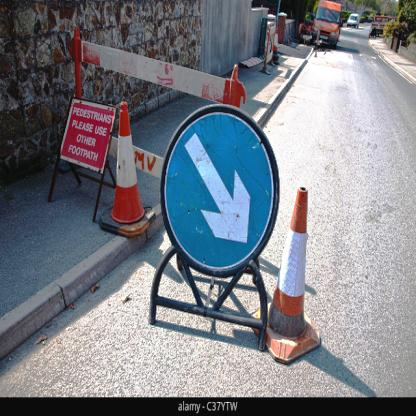Keep right: (160, 100, 281, 273)
